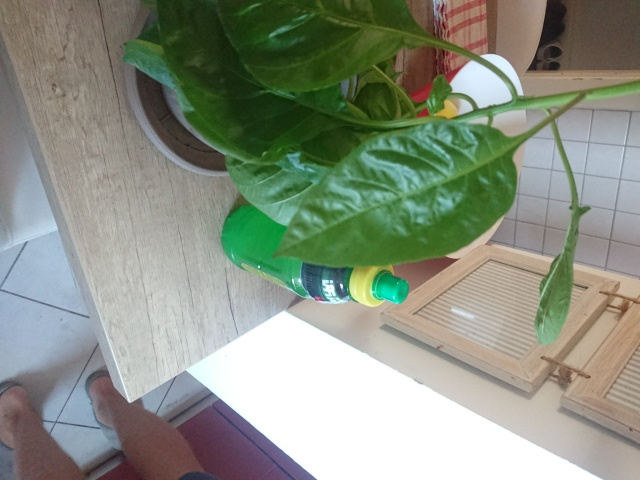Vindi Iso Sport Lemon-Grapefruit 500mL: (218, 202, 412, 310)
